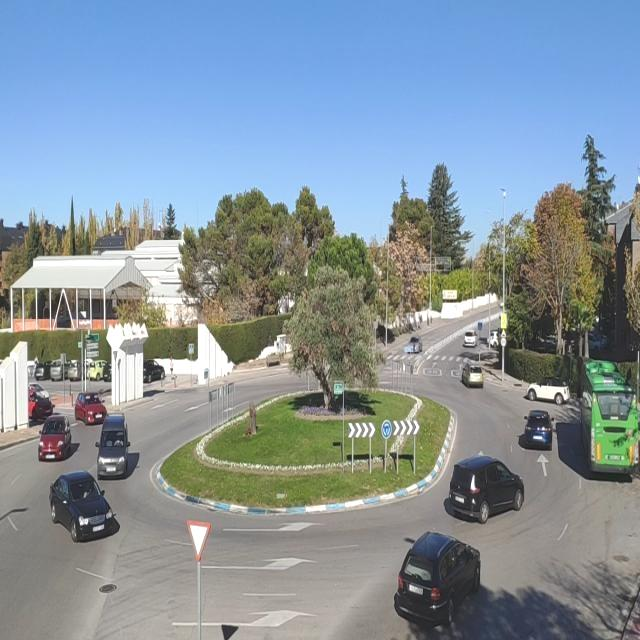Bus: (577, 358, 640, 473)
Car: (393, 531, 481, 624), (450, 456, 524, 524), (50, 470, 115, 540), (96, 413, 130, 478), (37, 415, 72, 461), (524, 376, 570, 404), (521, 409, 554, 447), (75, 390, 107, 425), (461, 361, 485, 387), (463, 327, 479, 348)
